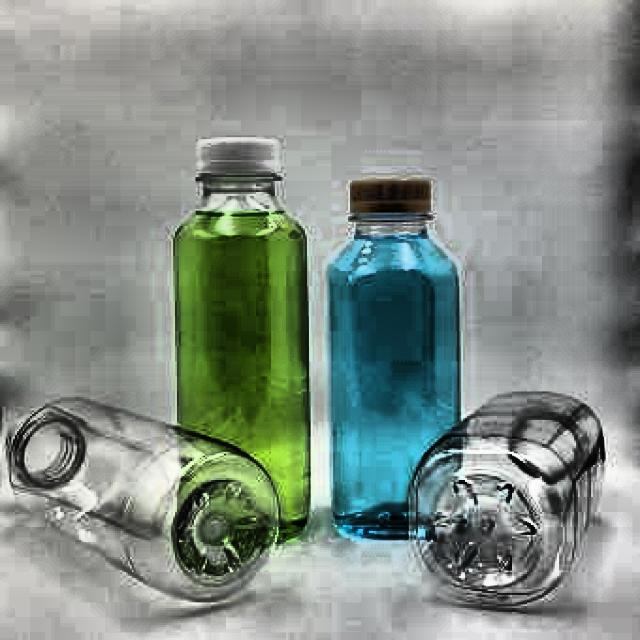Bottles: (0, 381, 288, 620), (155, 132, 313, 537), (331, 174, 485, 558), (406, 372, 622, 624)
